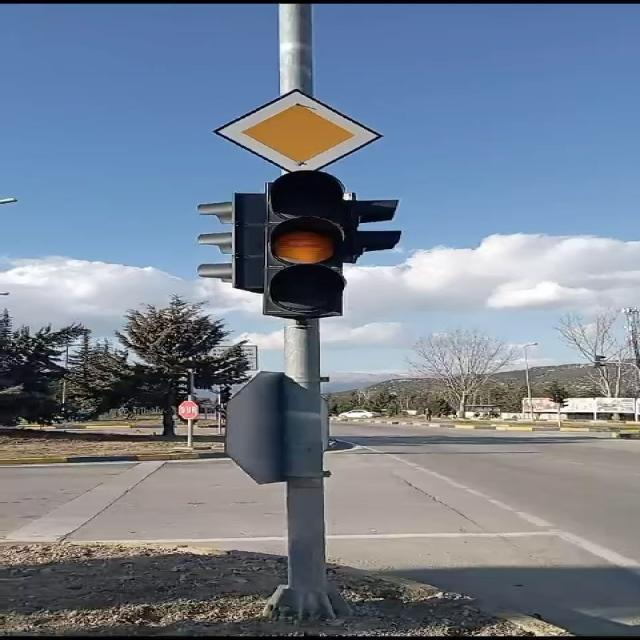sari: (263, 170, 401, 325)
